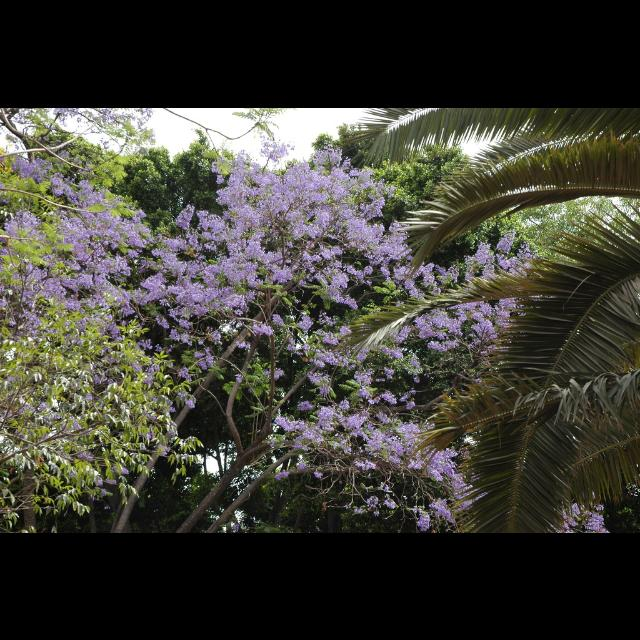Flower: (0, 108, 606, 532)
